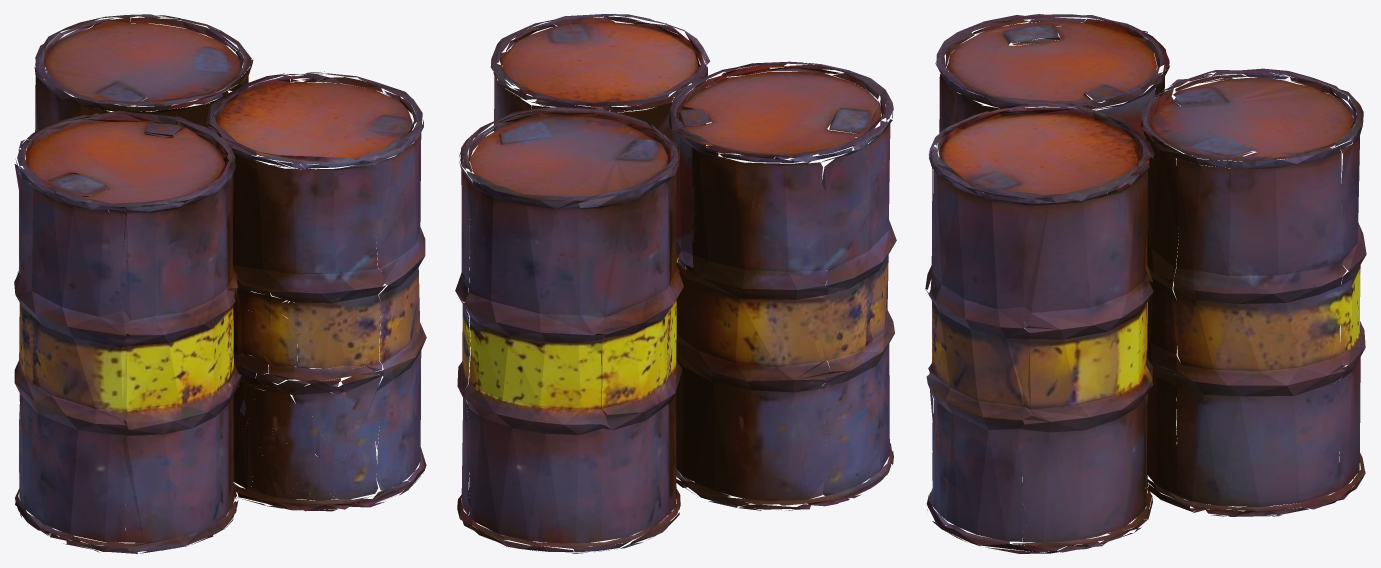
The model's file is oil-barrels.glb.
3 views of the same model, side by side, from view 1: azimuth 30°, elevation 25°; view 2: azimuth 150°, elevation 25°; view 3: azimuth 270°, elevation 25° (orthographic). The views are drawn at different scales.
Parts seen in each view (by area): view 1: prop; view 2: prop; view 3: prop.
Part boxes in pixels (x1,y1,x2,y2): prop: (14, 14, 426, 553); prop: (455, 14, 896, 553); prop: (925, 14, 1366, 553).
Size of the model in its own units: 0.92 by 0.8372 by 0.9191.
Materials: 1 (1 with a texture image).
